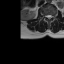CCS_normal: (48, 13, 50, 21)
LFS_normal: (52, 13, 54, 19)
LLS_normal: (50, 13, 52, 19)
RFS_normal: (44, 13, 46, 19)
RLS_normal: (46, 13, 48, 19)
